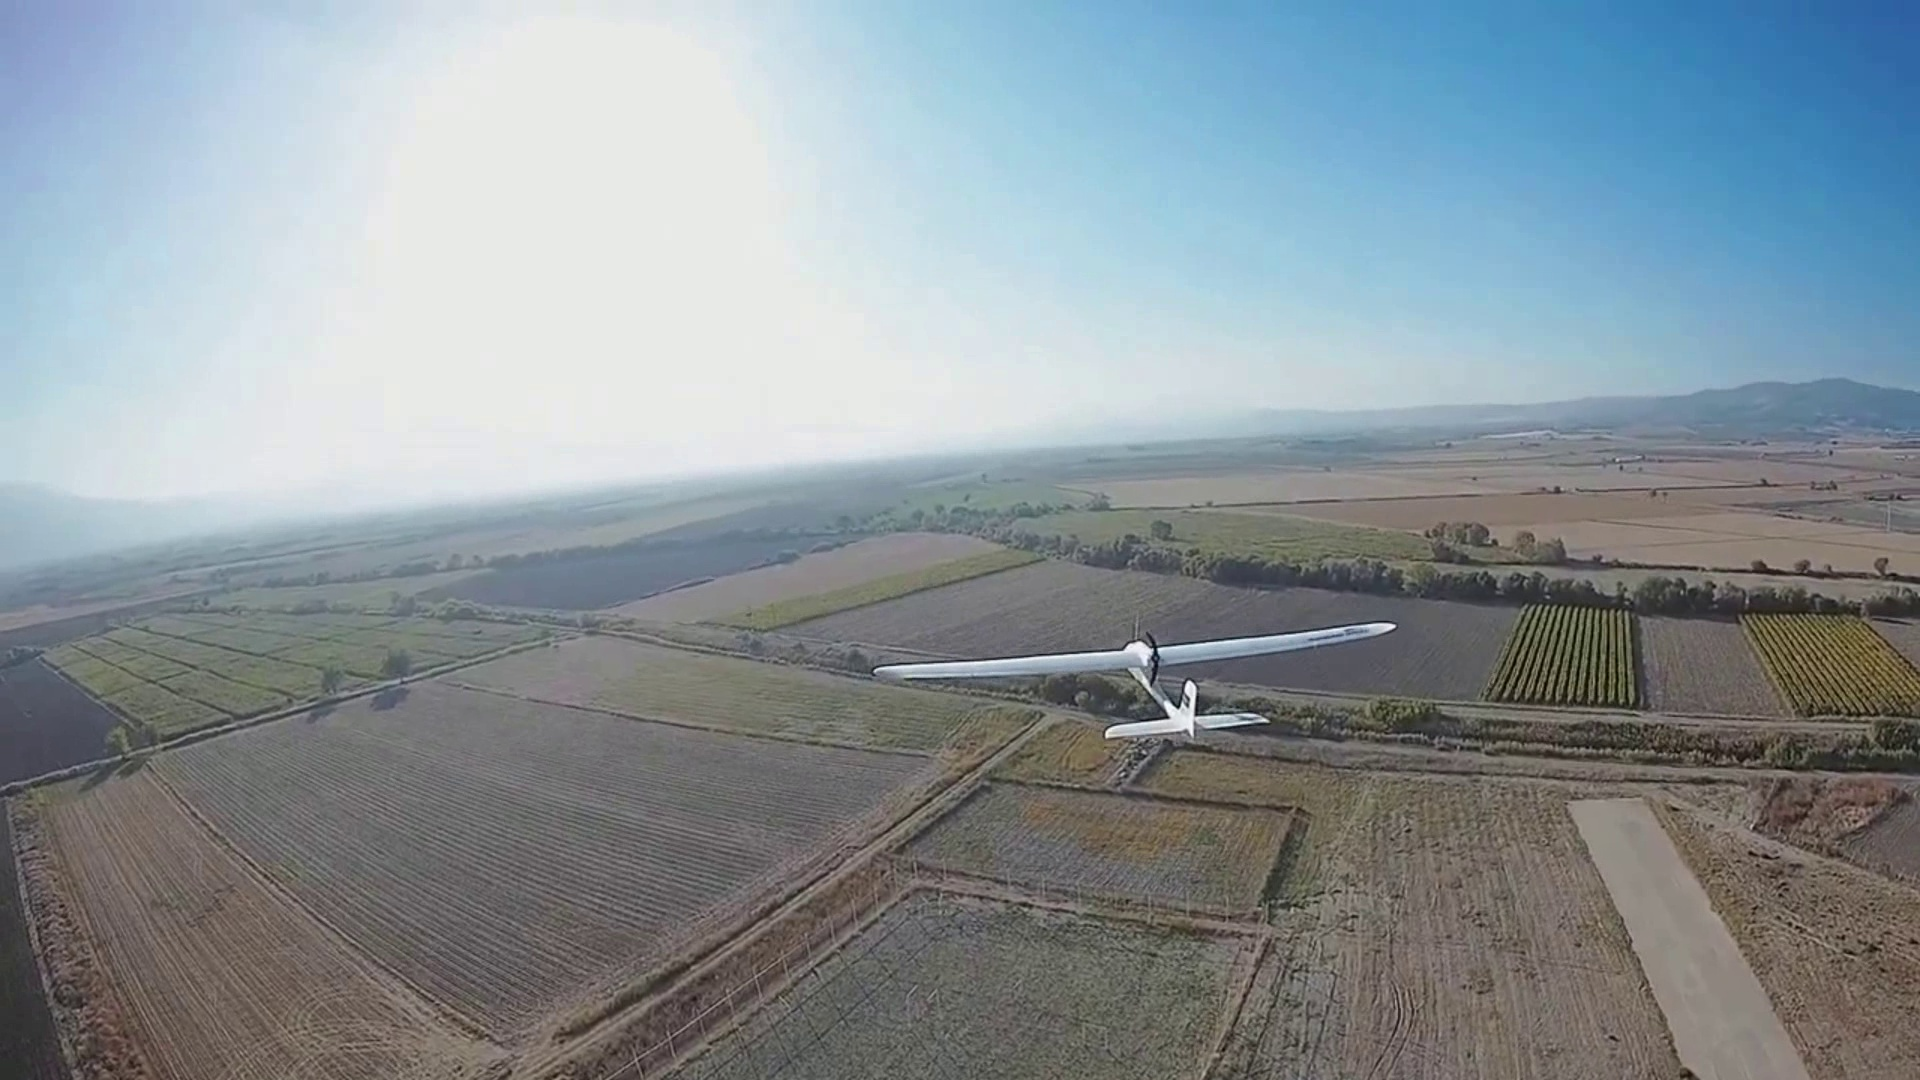airplane: (864, 616, 1397, 740)
